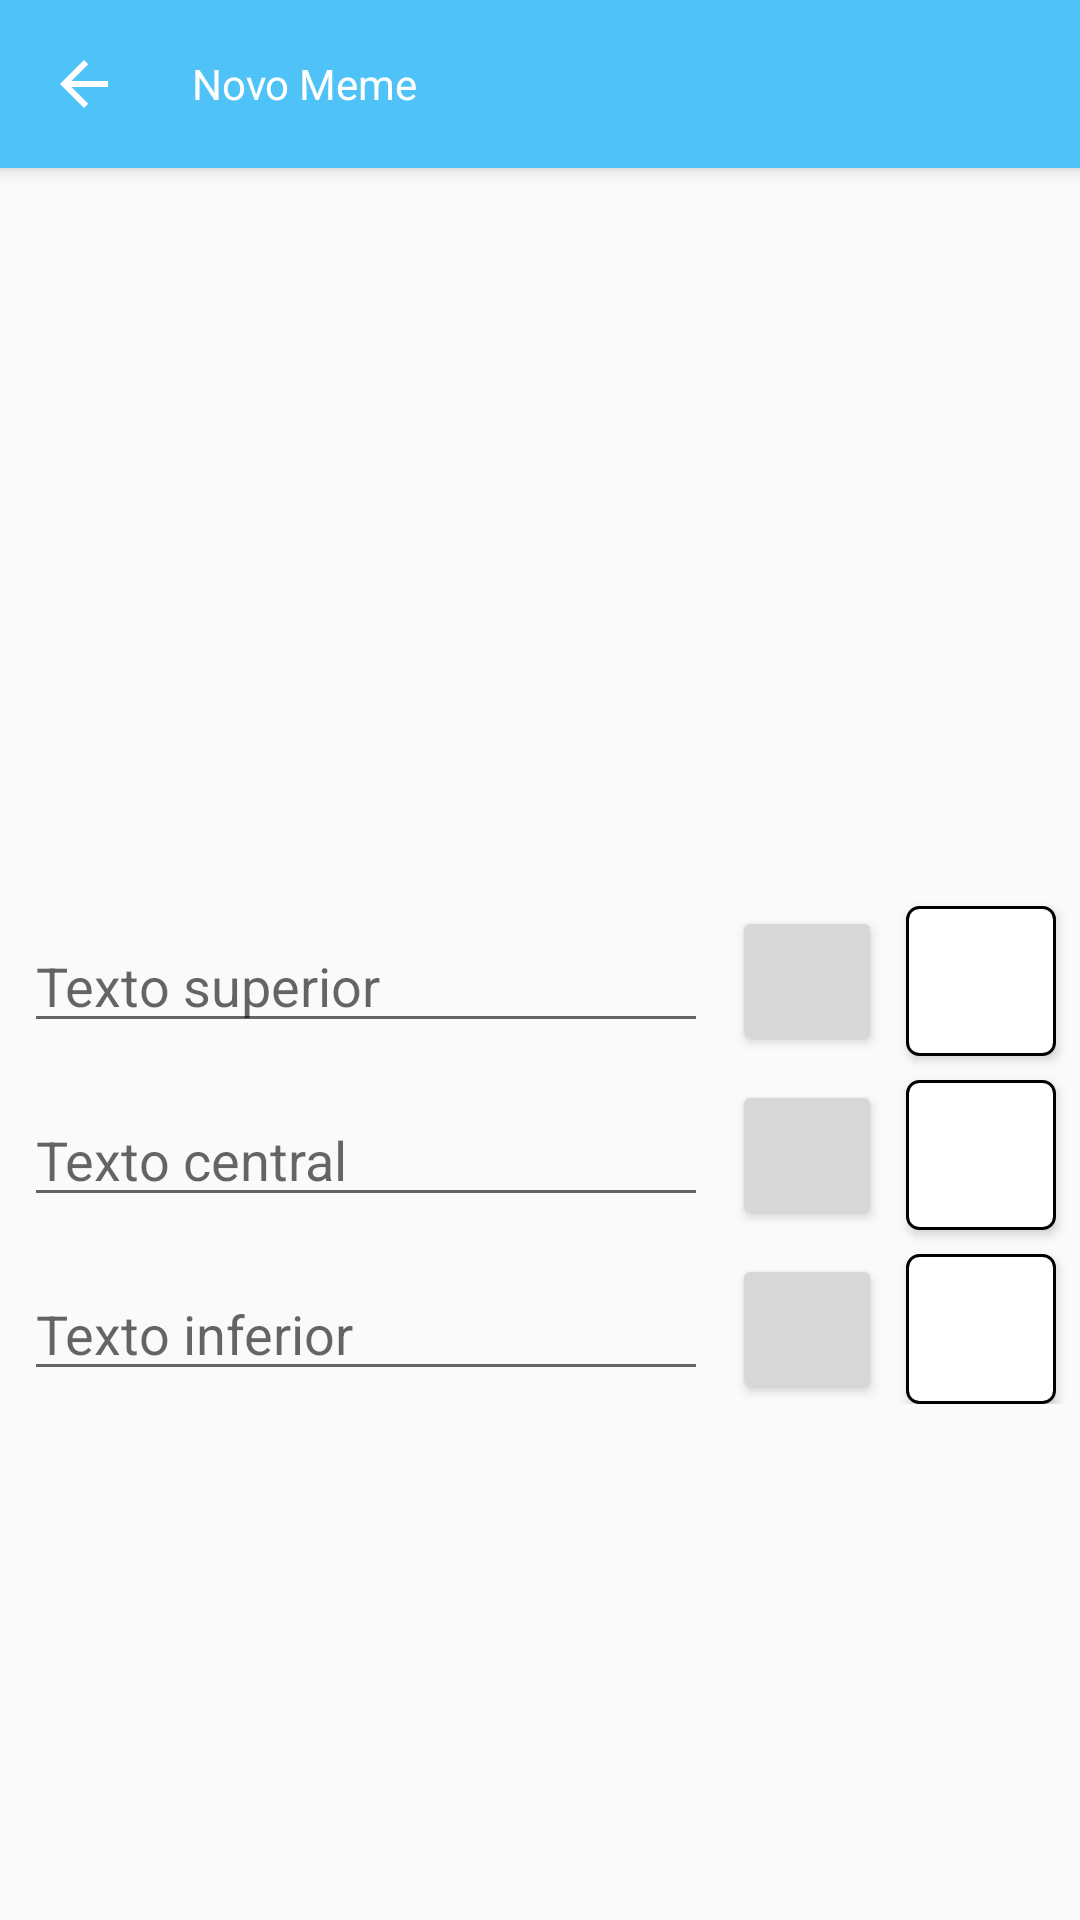

Icon bounding boxes for this 1080×1920 phone screenshot, format region(x1, y1, x2, y2):
Voltar: region(60, 60, 108, 108)
